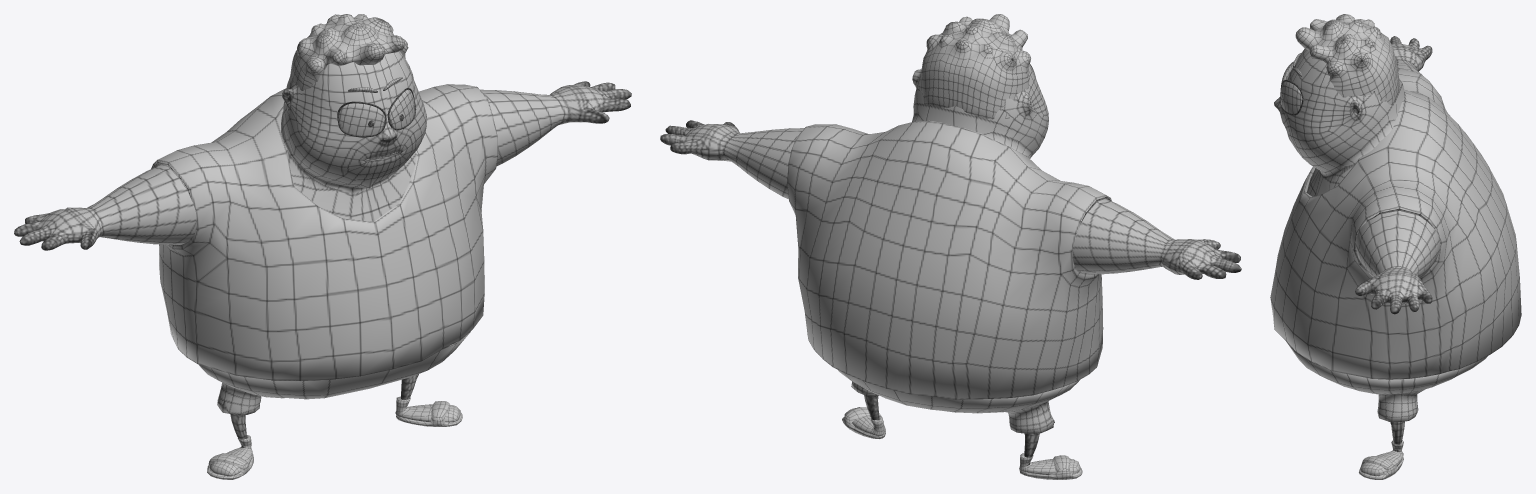
Rendered from Colin Wire.glb.
3 renders of one model, left to right at view 1: azimuth 30°, elevation 25°; view 2: azimuth 150°, elevation 25°; view 3: azimuth 270°, elevation 25°, orthographic. The views are drawn at different scales.
Parts seen in each view (by area): view 1: Colin; view 2: Colin; view 3: Colin.
Part boxes in pixels (box(x1,y1,x2,y2)): Colin: box(14, 14, 631, 479); Colin: box(660, 14, 1241, 479); Colin: box(1270, 14, 1521, 479).
Bounding box in the file's own units: 1.18 × 0.8141 × 0.4583.
1 material, 1 textured.
